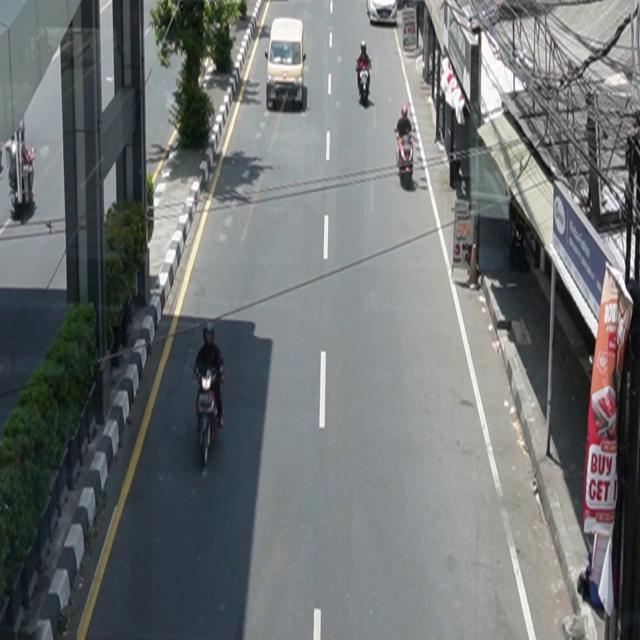car: (265, 18, 307, 112), (367, 1, 398, 26)
